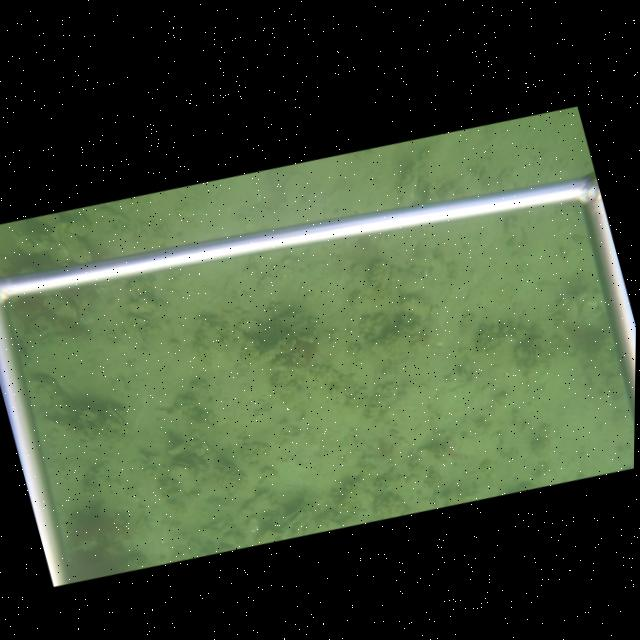Oyster-Open: (169, 461, 196, 494), (131, 312, 152, 324)
